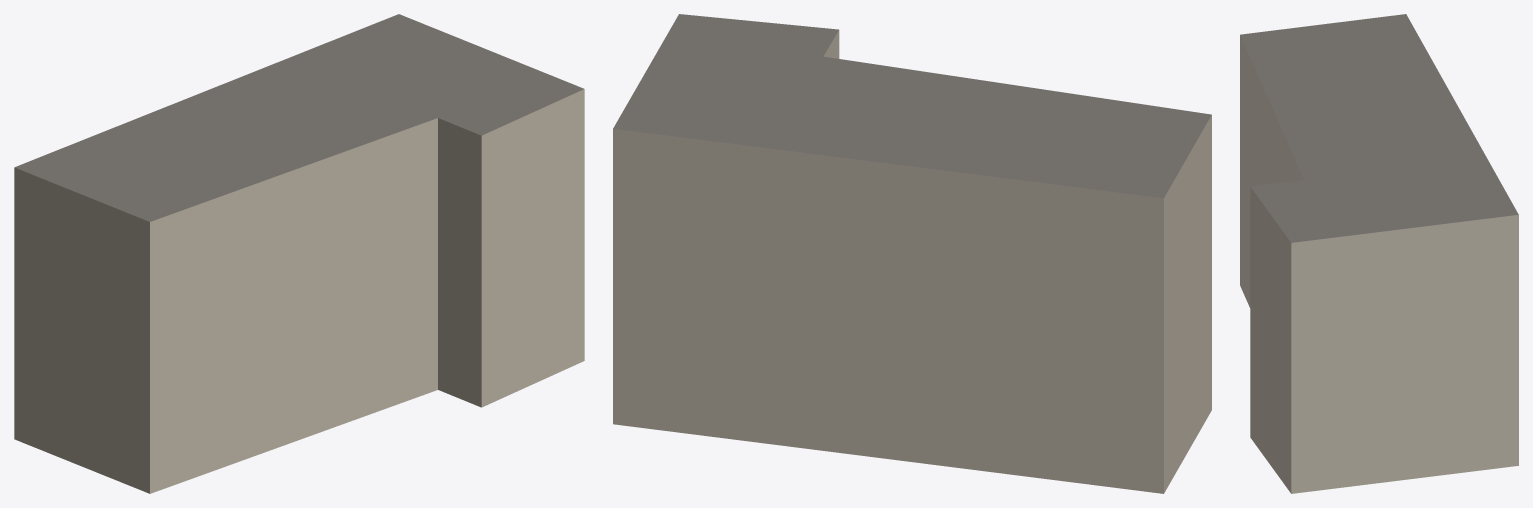
3 renders of one model, left to right at view 1: azimuth 30°, elevation 25°; view 2: azimuth 150°, elevation 25°; view 3: azimuth 270°, elevation 25°, orthographic. The views are drawn at different scales.
Visible parts, largest first — view 1: HP-w505643536; view 2: HP-w505643536; view 3: HP-w505643536.
Boxes of the visible parts, x1,y1,x2,y2 form: HP-w505643536: (14, 14, 584, 493); HP-w505643536: (613, 14, 1211, 493); HP-w505643536: (1240, 14, 1518, 493).
Size of the model in its own units: 23.47 by 12 by 12.07.
